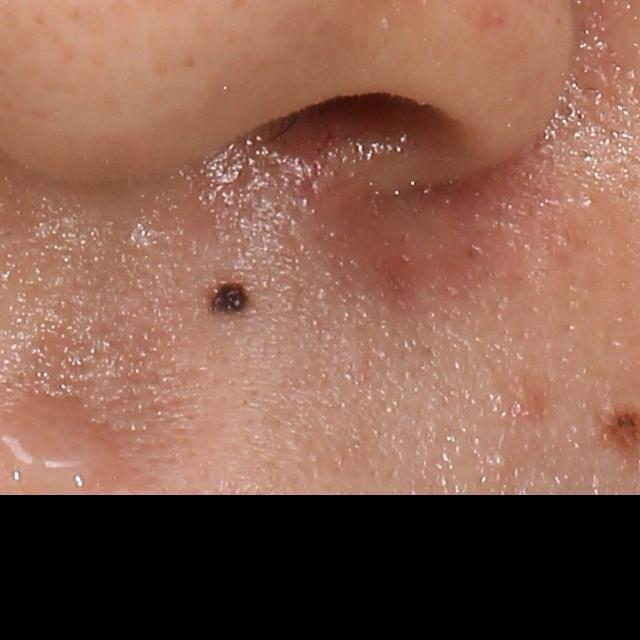comedo: (490, 451, 508, 472)
nevus: (208, 278, 249, 317)
papule: (492, 378, 545, 424)
